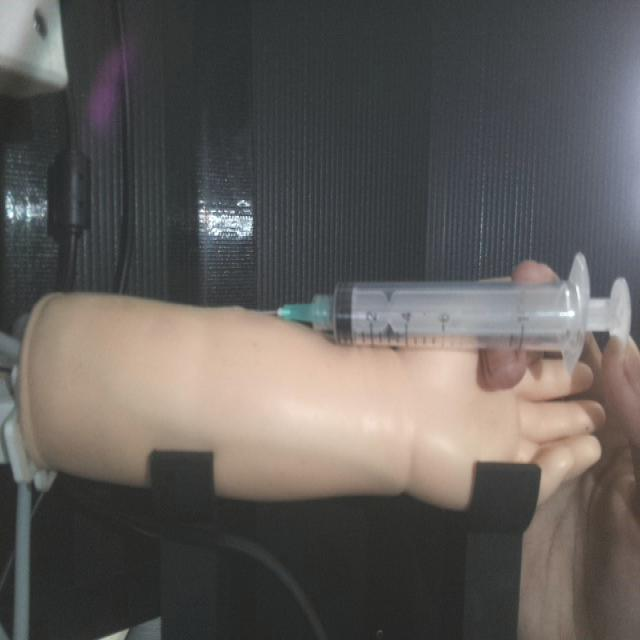Below 15 degrees: (270, 251, 632, 373)
